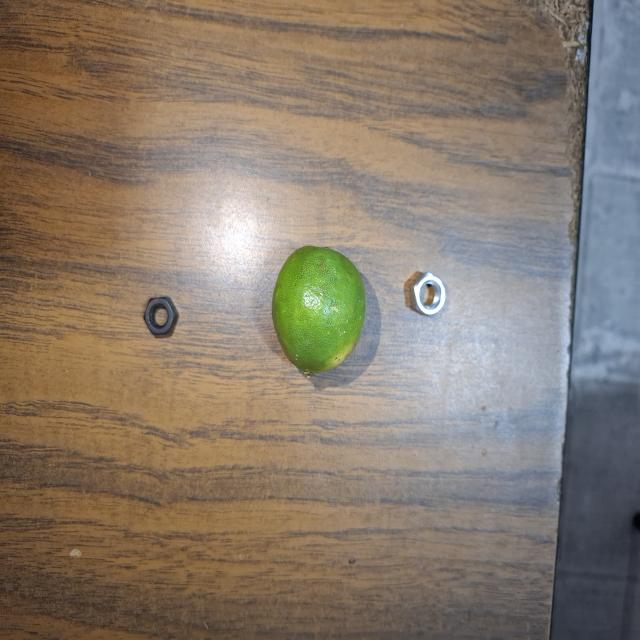limon: (268, 242, 372, 391)
milimetrico: (138, 287, 189, 346)
tuerca: (403, 265, 458, 326)
